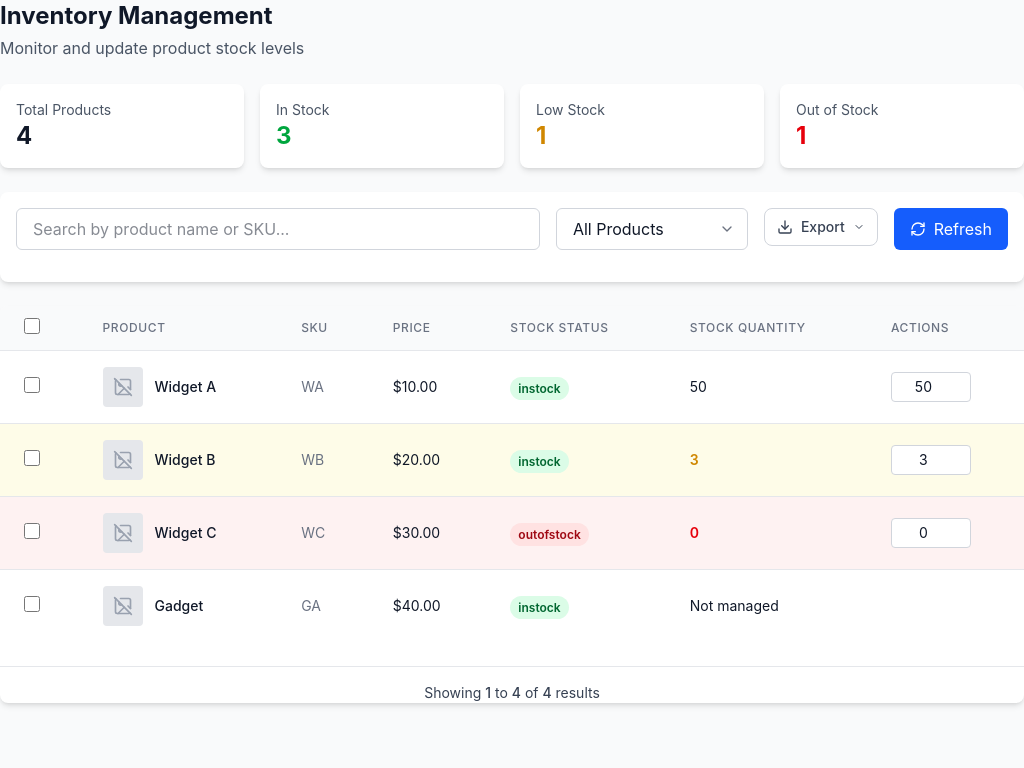
Test: InventoryPage › selection › selects individual product
The width and height of the screenshot is (1024, 768).
First checkbox is select-all, rest are per product
What coordinates should you click on to do the following:
click the checkbox next to "Widget A"
I would click on:
 (32, 385)
Its box is [24,377,40,393].
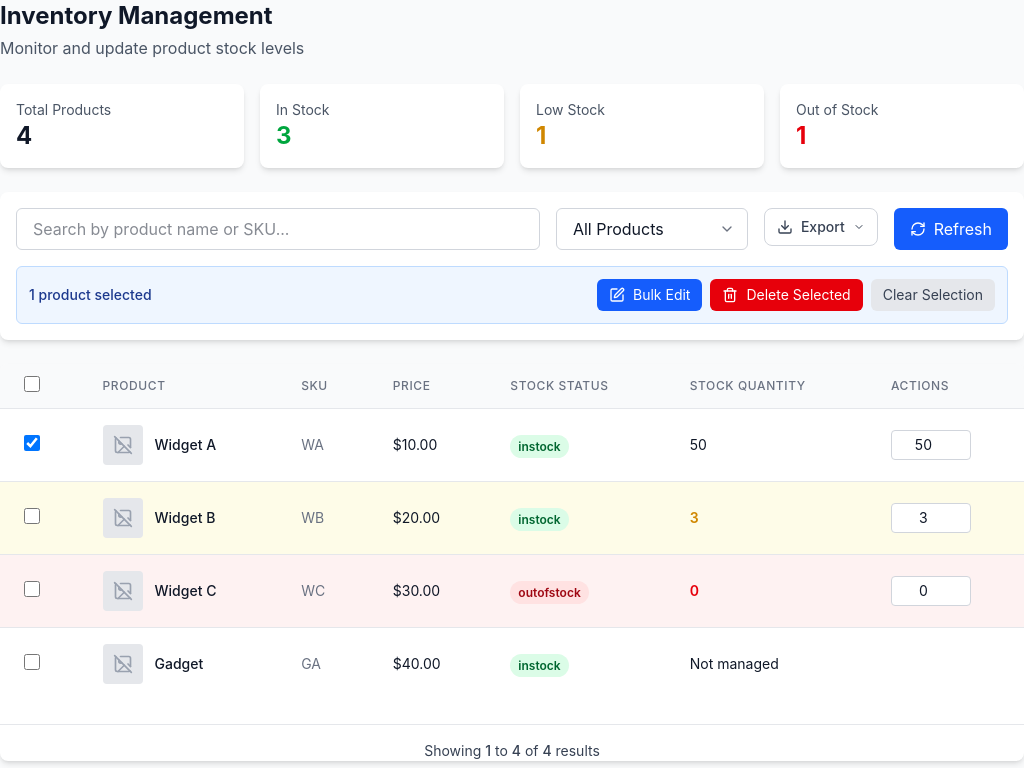
Check: the text "1 product selected" is shown, box [29,285,152,305]
